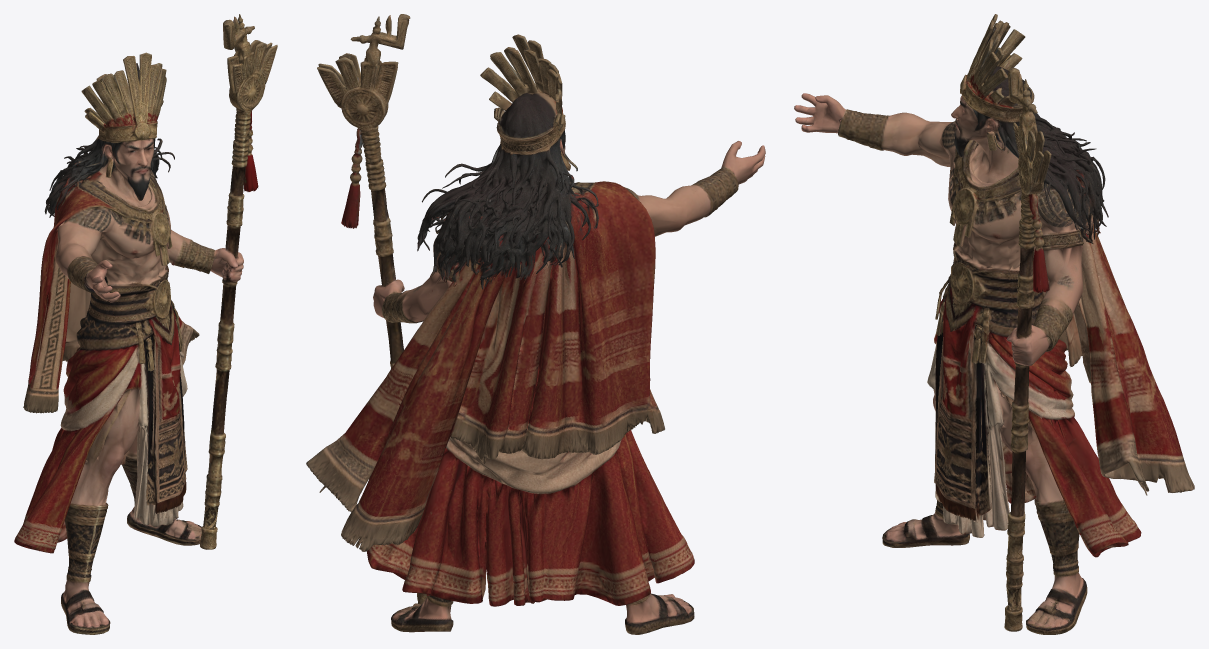
The model's file is Meshy_AI_Sun_Emperor_texture_remesh_tri.glb.
3 renders of one model, left to right at view 1: azimuth 30°, elevation 25°; view 2: azimuth 150°, elevation 25°; view 3: azimuth 270°, elevation 25°, orthographic. The views are drawn at different scales.
Bounding box in the file's own units: 1.12 × 1.9 × 1.2.
Materials: 1 (1 with a texture image).
